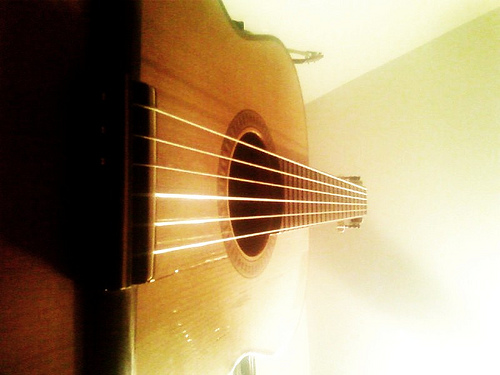guitar: (1, 1, 375, 375)
